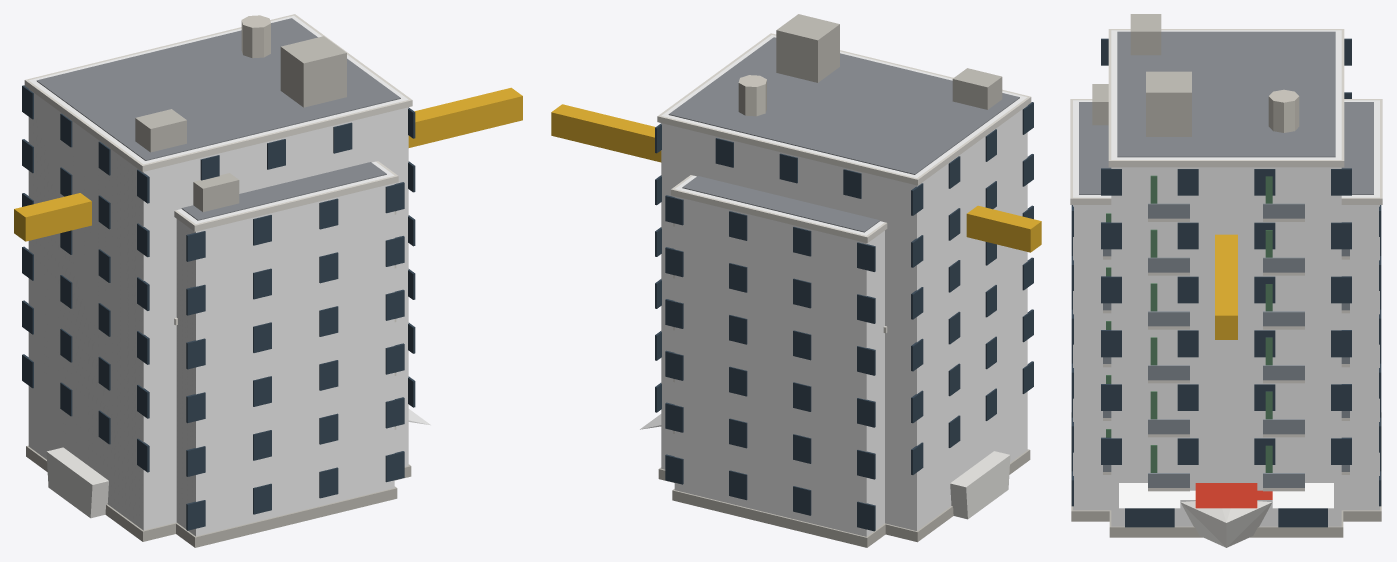
Rendered from kit.glb.
3 renders of one model, left to right at view 1: azimuth 30°, elevation 25°; view 2: azimuth 150°, elevation 25°; view 3: azimuth 270°, elevation 25°, orthographic. The views are drawn at different scales.
Visible parts, largest first — view 1: box.205, box.370, box.496, box.553, box.371, box.498, box.337, hull.014, box.207, box.206, box.497, box.338 (+2 smaller); view 2: box.370, box.205, box.496, box.553, box.371, box.498, box.337, hull.014, box.207, box.206, box.497, box.372 (+1 smaller); view 3: box.370, box.496, box.205, box.337, box.371, box.498, hull.014, box.553, box.372, hull.008, box.206, hull.007 (+43 smaller).
Boxes of the visible parts, bbox=[...] form: box.205: bbox=[176, 161, 394, 536]; box.370: bbox=[28, 15, 408, 530]; box.496: bbox=[36, 18, 400, 160]; box.553: bbox=[14, 87, 522, 241]; box.371: bbox=[24, 14, 412, 171]; box.498: bbox=[280, 36, 346, 107]; box.337: bbox=[181, 162, 386, 220]; hull.014: bbox=[46, 447, 108, 518]; box.207: bbox=[176, 486, 397, 547]; box.206: bbox=[174, 161, 398, 231]; box.497: bbox=[135, 109, 186, 152]; box.338: bbox=[193, 173, 239, 211]; box.370: bbox=[661, 35, 1027, 530]; box.205: bbox=[674, 175, 884, 536]; box.496: bbox=[668, 37, 1019, 174]; box.553: bbox=[551, 104, 1041, 252]; box.371: bbox=[657, 33, 1031, 185]; box.498: bbox=[776, 14, 839, 82]; box.337: bbox=[682, 176, 880, 232]; hull.014: bbox=[950, 451, 1010, 519]; box.207: bbox=[672, 489, 886, 547]; box.206: bbox=[671, 175, 887, 243]; box.497: bbox=[952, 68, 1002, 109]; box.372: bbox=[658, 449, 1030, 542]; box.370: bbox=[1111, 30, 1341, 526]; box.496: bbox=[1117, 31, 1335, 157]; box.205: bbox=[1073, 100, 1379, 510]; box.337: bbox=[1079, 102, 1373, 194]; box.371: bbox=[1108, 29, 1344, 167]; box.498: bbox=[1146, 71, 1191, 136]; hull.014: bbox=[1180, 501, 1272, 547]; box.553: bbox=[1215, 234, 1237, 339]; box.372: bbox=[1109, 511, 1343, 537]; hull.008: bbox=[1195, 483, 1257, 508]; box.206: bbox=[1070, 99, 1382, 204]; hull.007: bbox=[1119, 483, 1180, 508].
Bounding box in the file's own units: 30 × 24.57 × 16.3.
